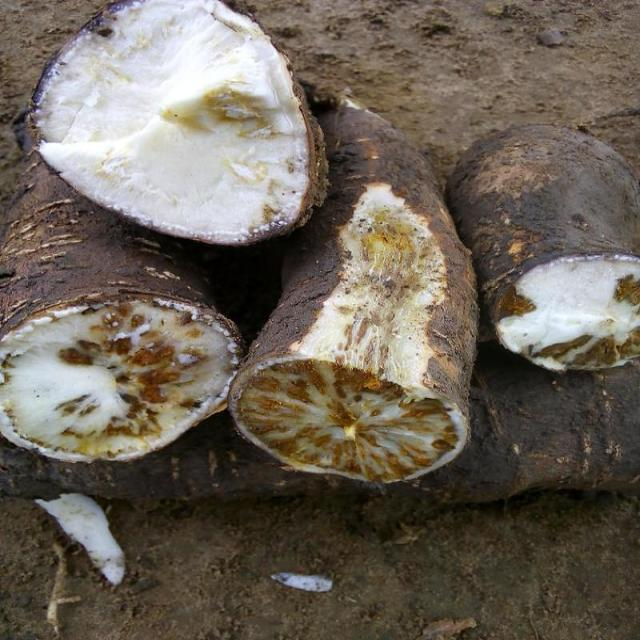cassava leaf: (227, 95, 481, 485), (29, 0, 331, 247), (446, 120, 640, 374), (2, 289, 245, 463)
